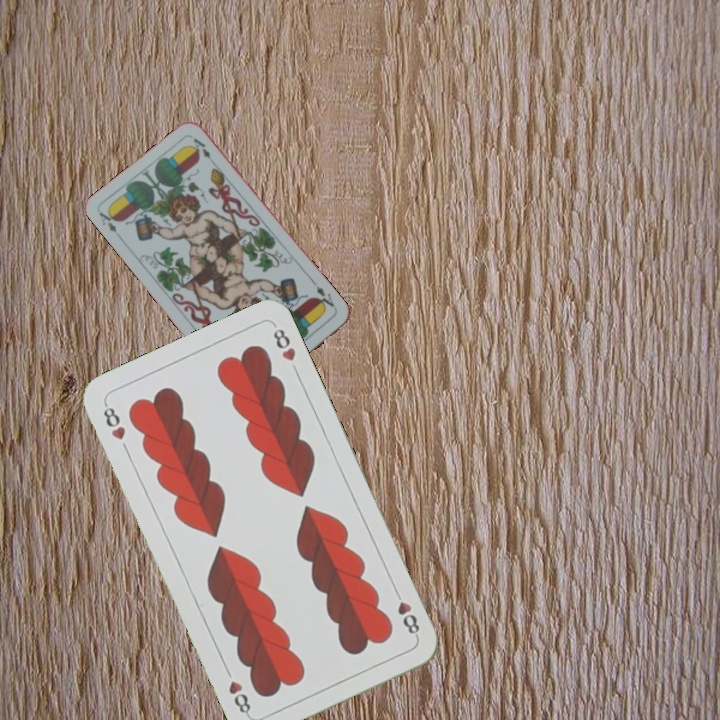EA: (95, 206, 125, 242), (309, 278, 337, 313)
H8: (390, 585, 423, 641), (99, 399, 128, 443)
